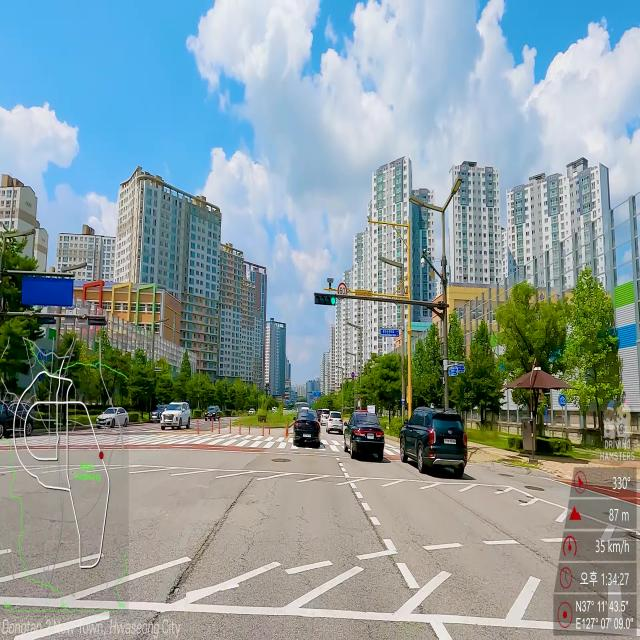Green Light: (331, 296, 335, 305)
